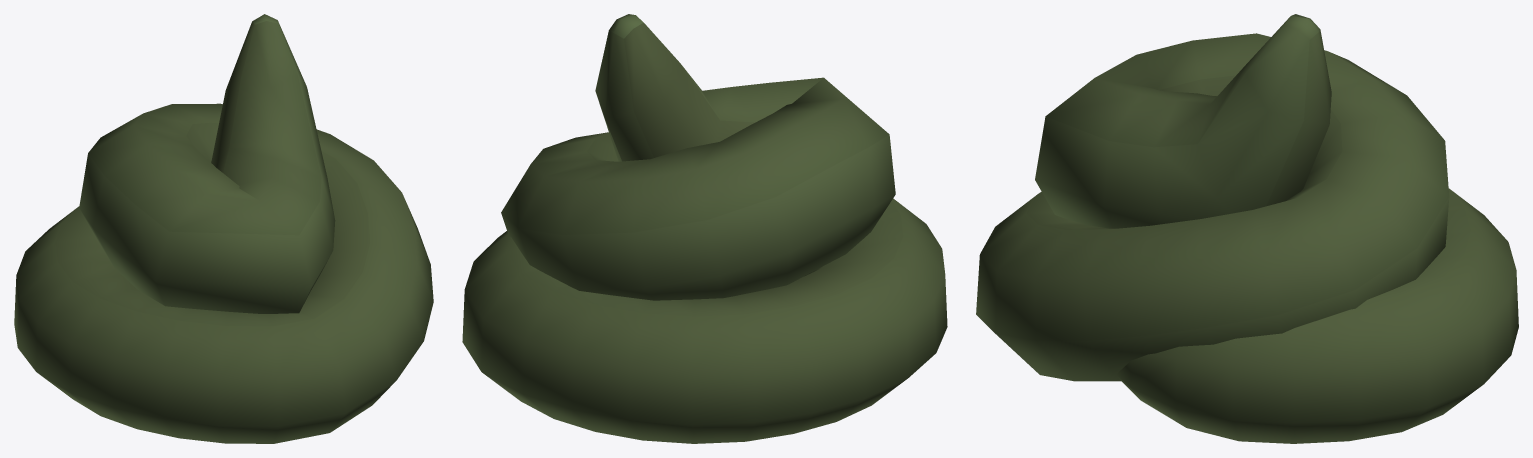
The model's file is 3D_Dishe_Items_Fail_dishe.fbx.
3 renders of one model, left to right at view 1: azimuth 30°, elevation 25°; view 2: azimuth 150°, elevation 25°; view 3: azimuth 270°, elevation 25°, orthographic. The views are drawn at different scales.
Parts seen in each view (by area): view 1: 3D_Dishe_Items_Fail_dishe; view 2: 3D_Dishe_Items_Fail_dishe; view 3: 3D_Dishe_Items_Fail_dishe.
Boxes of the visible parts, x1=… form: 3D_Dishe_Items_Fail_dishe: x1=14, y1=14, x2=433, y2=443; 3D_Dishe_Items_Fail_dishe: x1=462, y1=14, x2=947, y2=443; 3D_Dishe_Items_Fail_dishe: x1=976, y1=14, x2=1518, y2=443.
Bounding box in the file's own units: 39.58 × 33.2 × 42.91.
